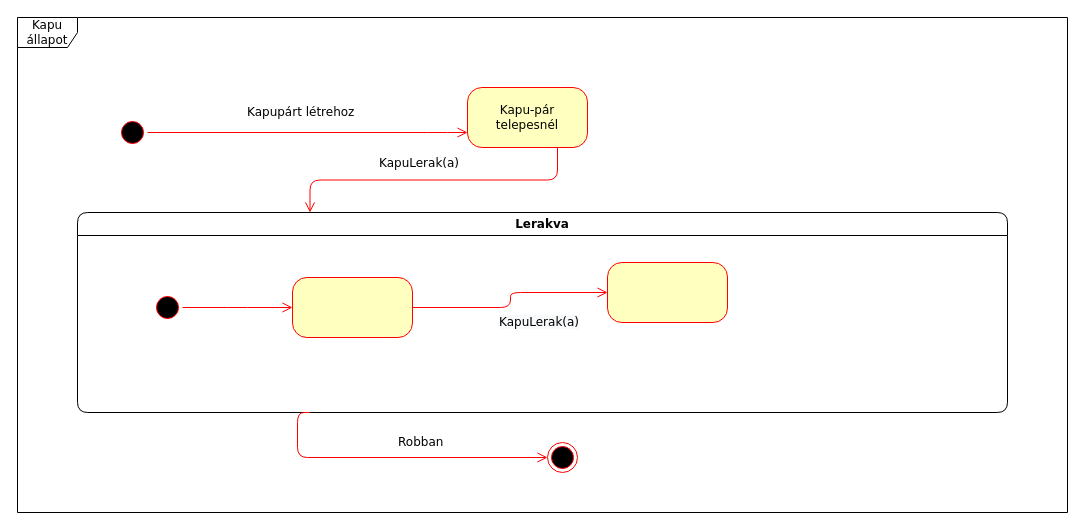
Some shapes in this 1085 by 530 pixel diagram are drawn without their labels. The shapes that lost their labels are listed below. From the top down, each one's box as (x1, y1, x2, y2) in pixels, then its label:
(292, 276, 412, 338): Egyik lerakva
(606, 262, 728, 322): Aktív kapu pár
